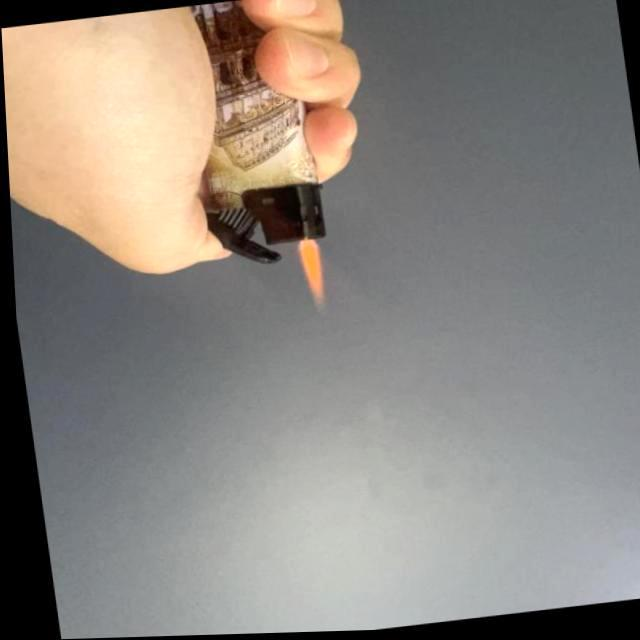fire: (290, 236, 326, 310)
